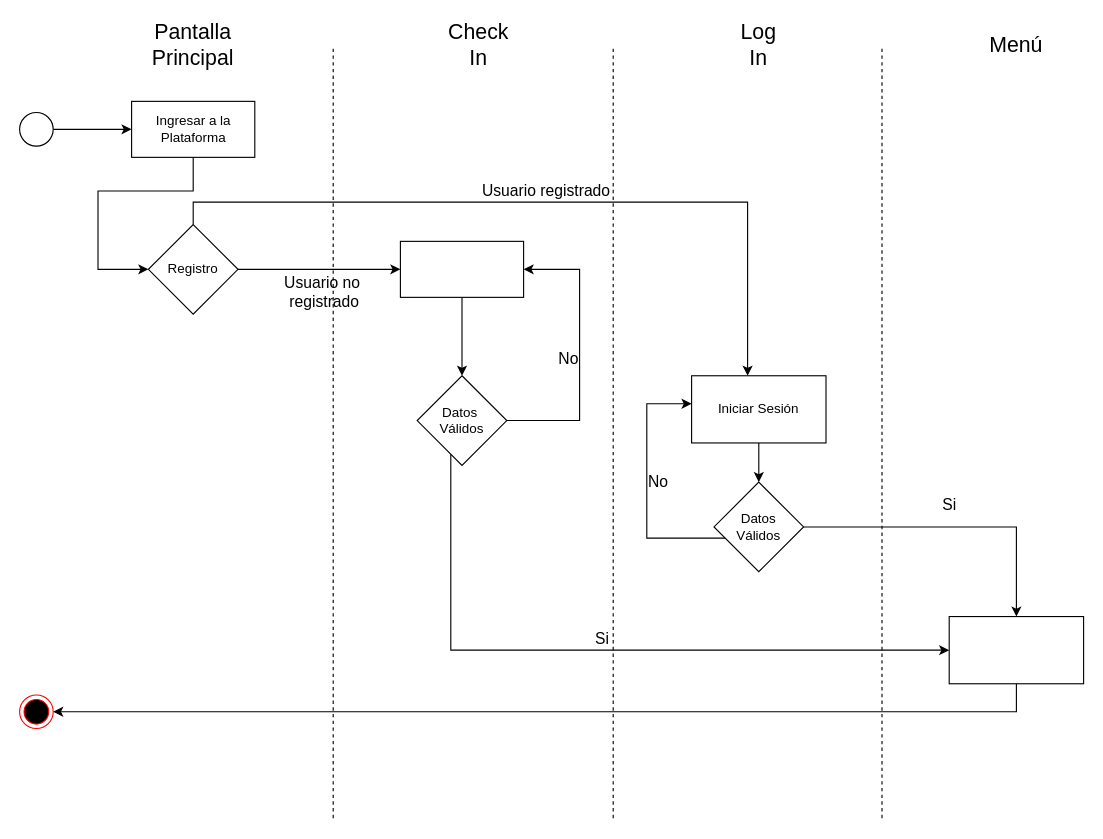
This 1103x839 diagram has some shape labels left out. Each missing label, with the centre of its shape:
"Crear Cuenta" goes at (461,268).
"Mostrar Menú Principal" goes at (1016,649).
